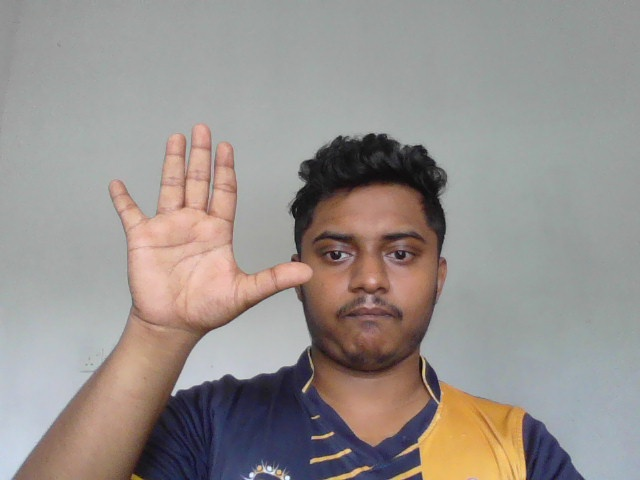Hello: (107, 118, 316, 336)
